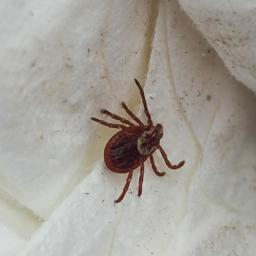Dermacentor variabilis: (92, 79, 182, 203)
